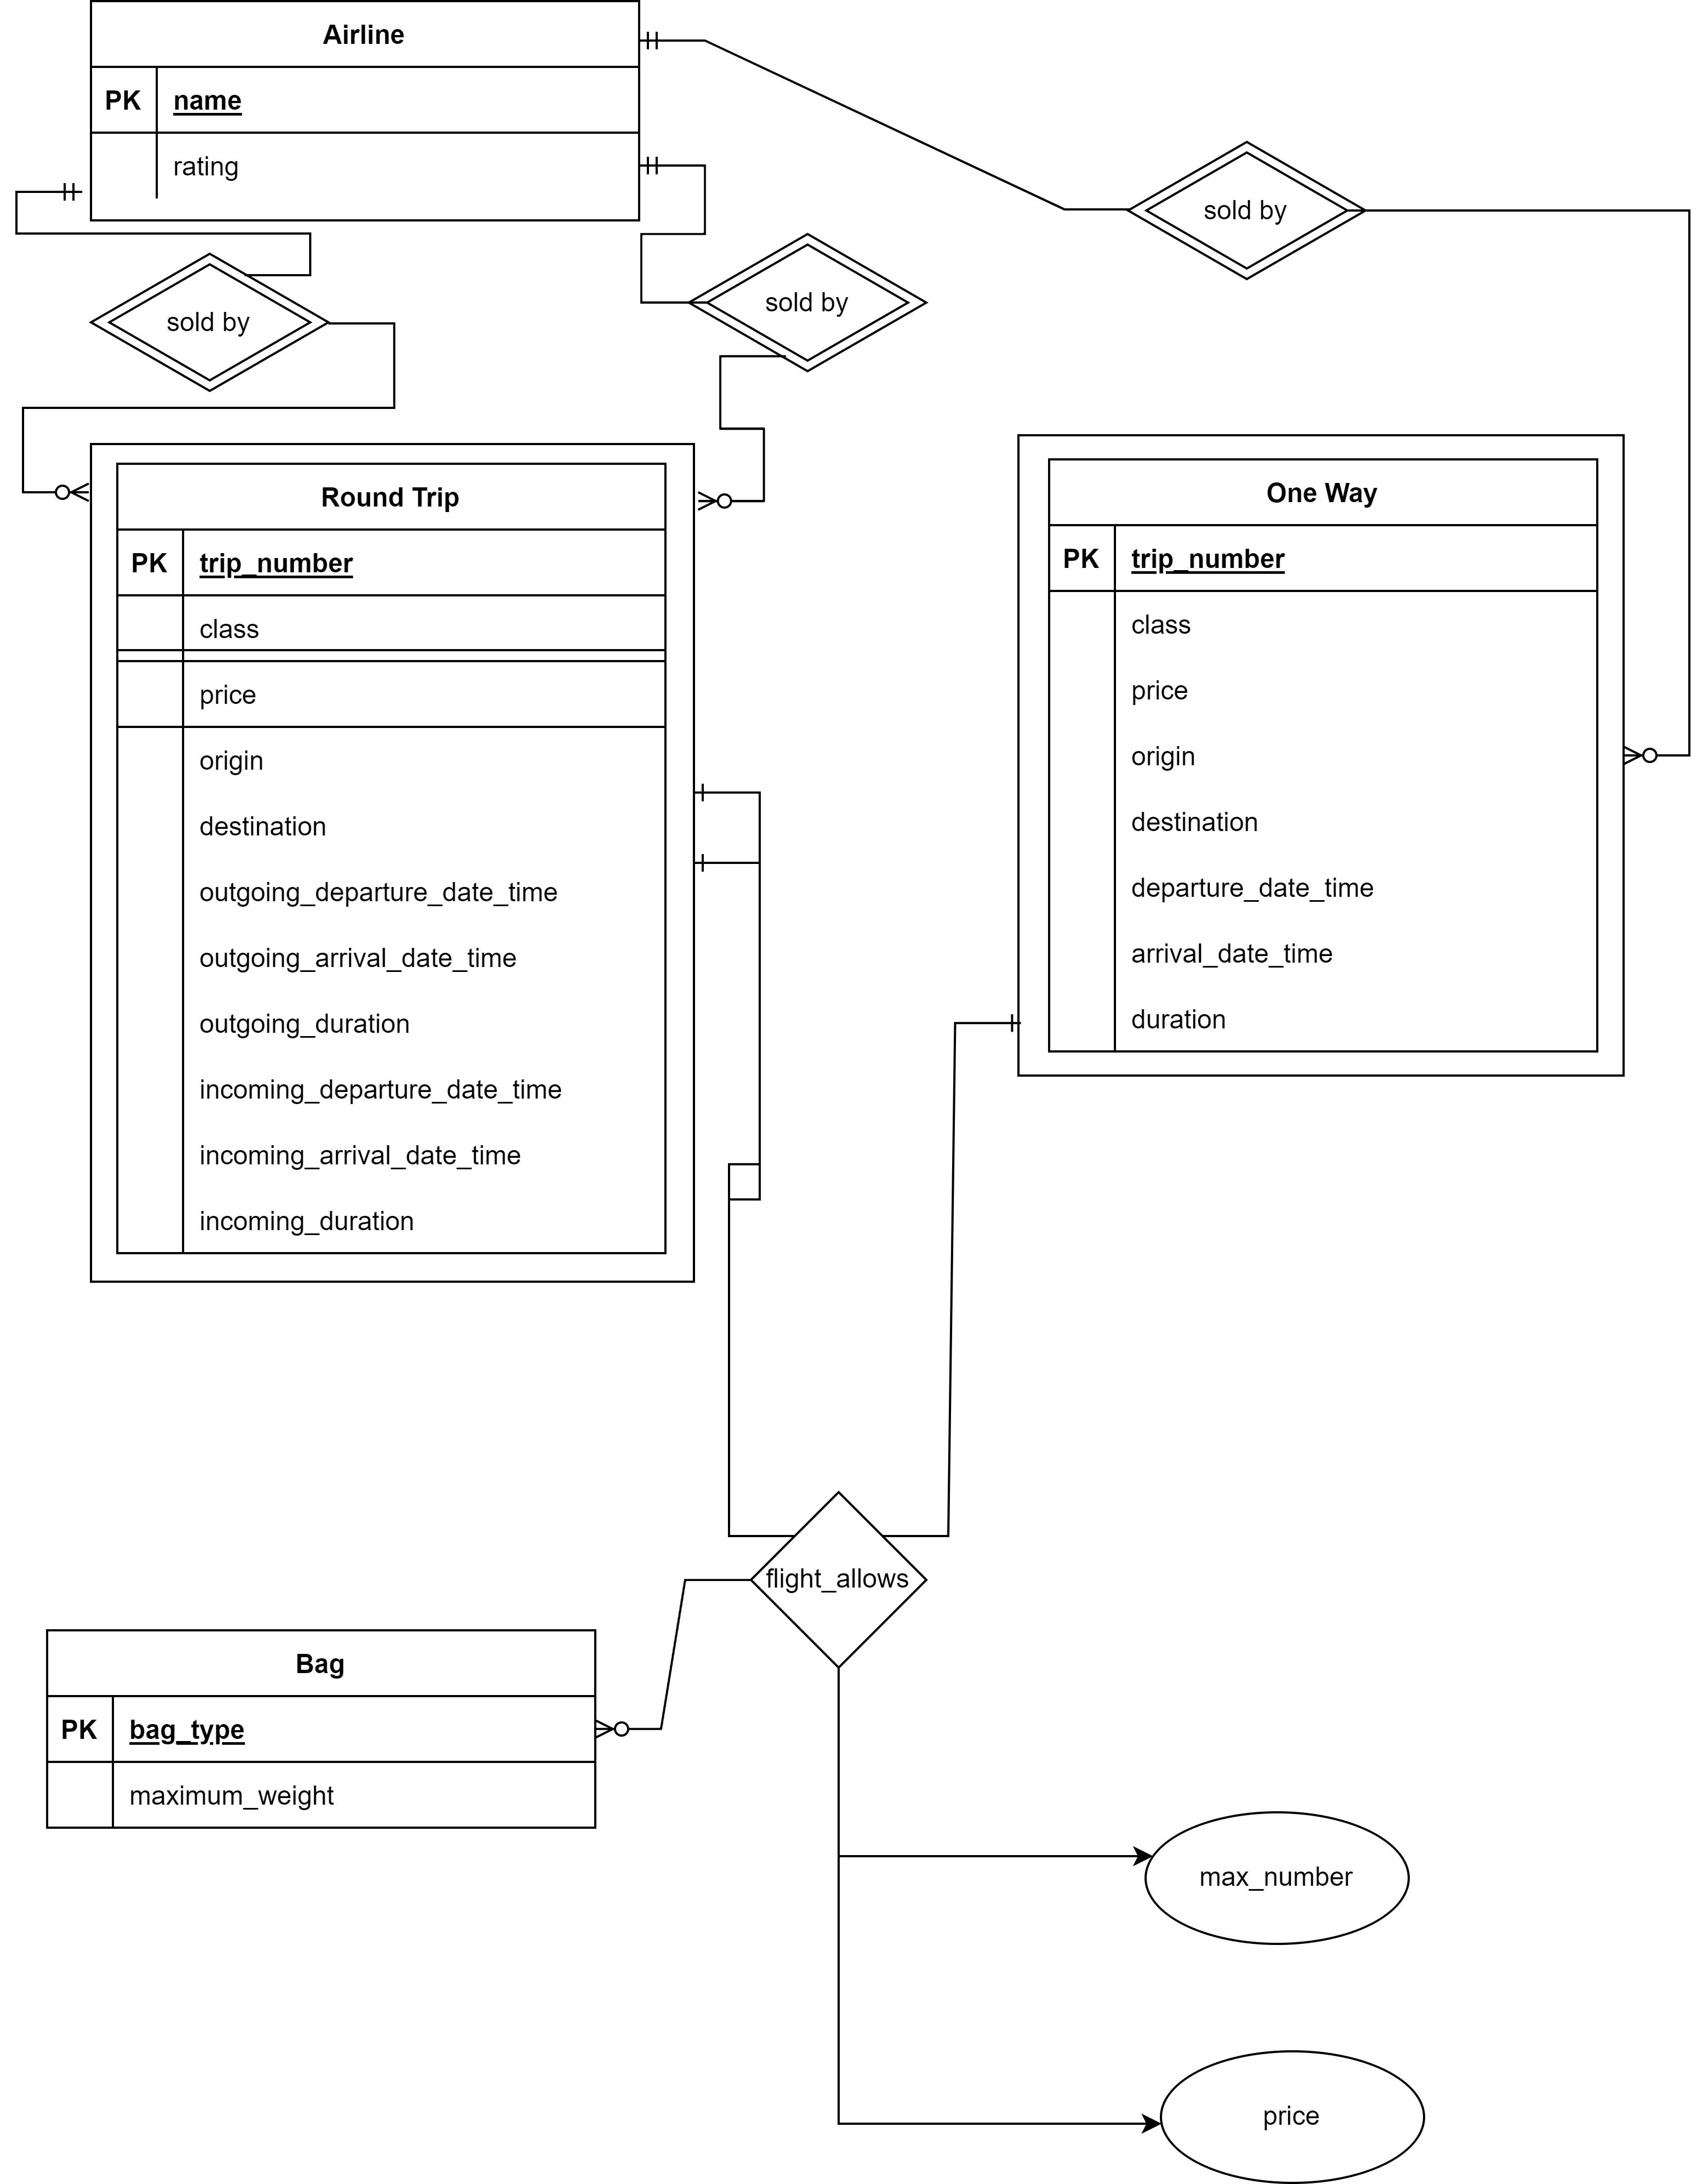attribute: (1146, 1808, 1410, 1946), (1161, 2049, 1426, 2184)
entity: (90, 0, 643, 229), (28, 1617, 602, 1835)
relationship: (746, 1494, 921, 1668)
weakentity: (83, 440, 700, 1289), (1010, 429, 1637, 1087)
weakrelationship: (691, 234, 927, 376), (90, 255, 326, 390), (1132, 145, 1364, 275)
